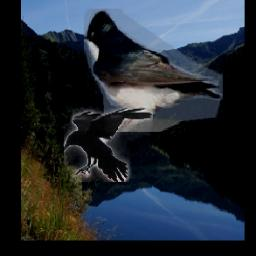Crow: (64, 107, 153, 183)
Swallow: (83, 9, 222, 132)
